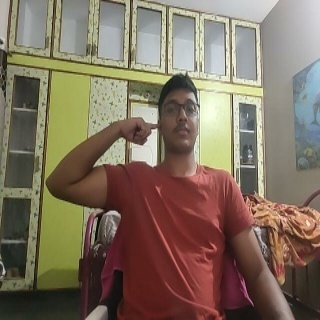Deaf: (111, 114, 162, 147)
Face: (155, 74, 202, 155)
